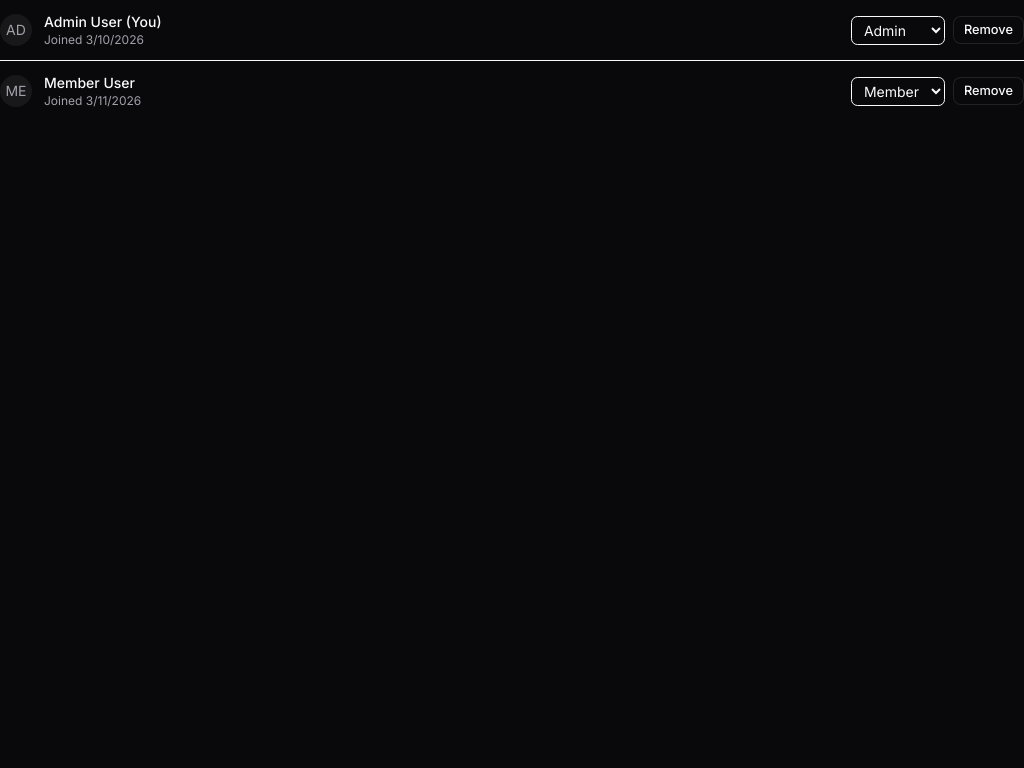
it: MemberManagementList › shows error and rolls back when sole-admin self-removal fails
The width and height of the screenshot is (1024, 768).
What coordinates should you click on to do the following:
click the button with aria-label "Remove Admin User"
I would click on:
 (988, 30)
Its box is [953,16,1023,44].
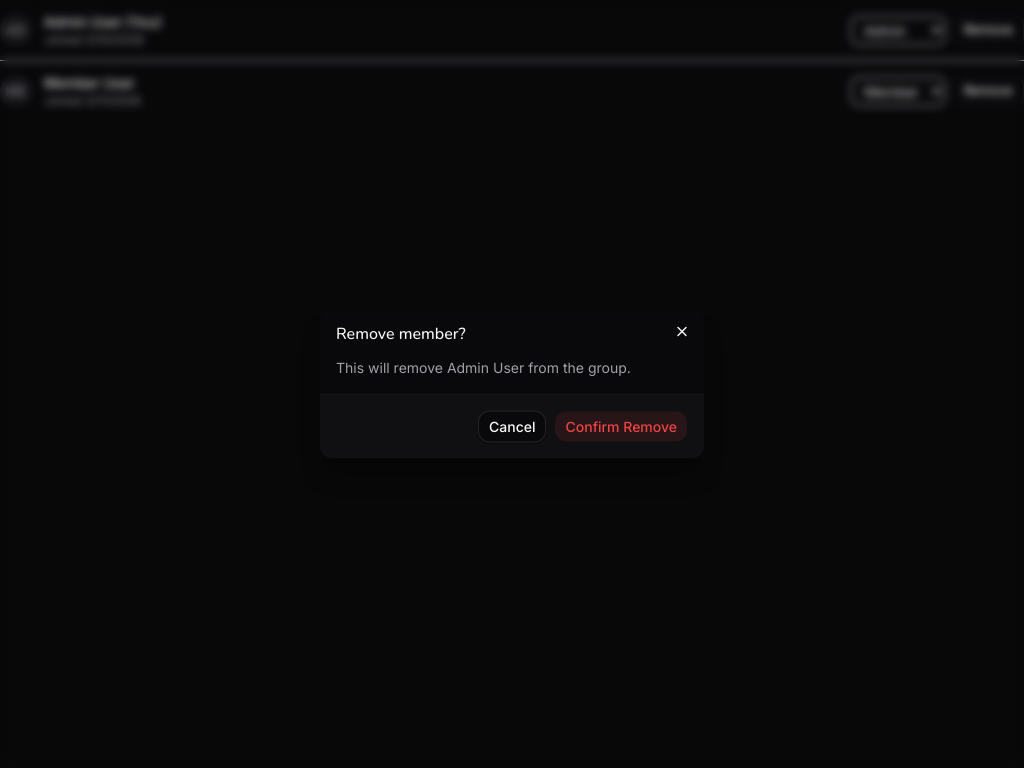
What coordinates should you click on to do the following:
click the button "Confirm Remove"
I would click on:
 (621, 426)
Its box is [554,410,688,442].
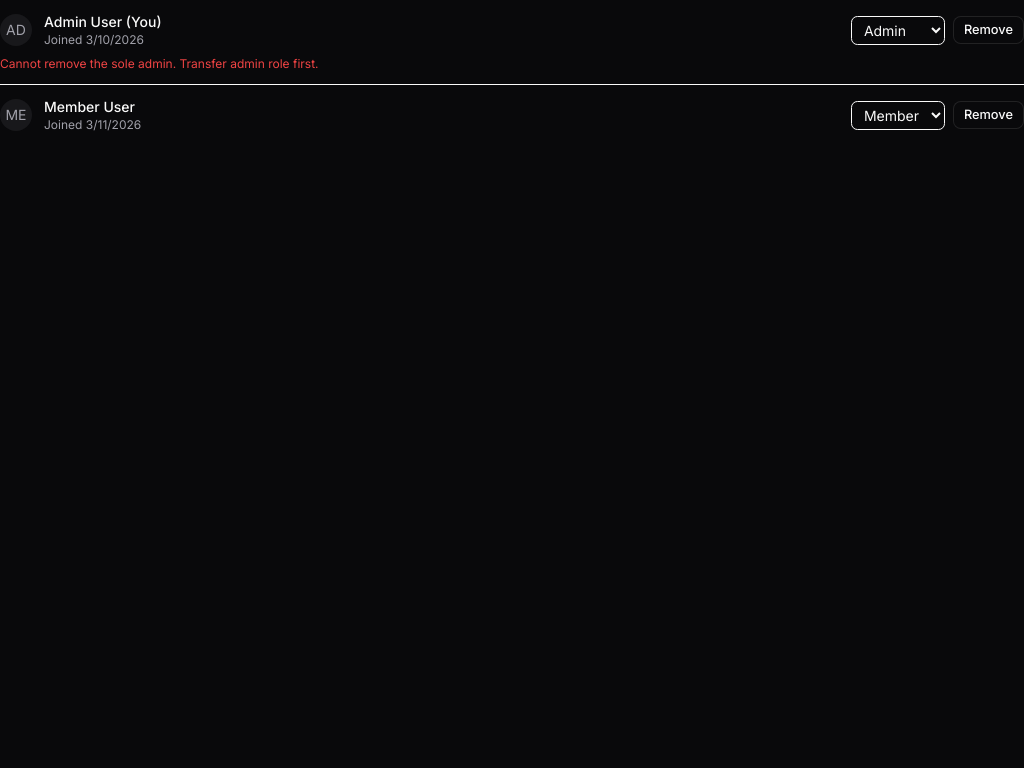
Expected: the text "Admin User (You)" is shown, [44,13,162,30]
Now the text "Cannot remove the sole admin. Transfer admin role first." is shown, box [0,56,318,71]
